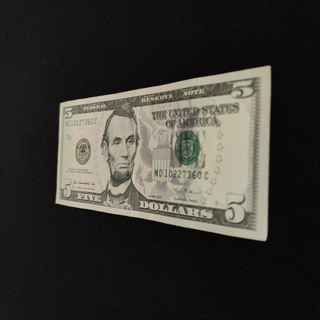5USDFront: (55, 65, 272, 242)
